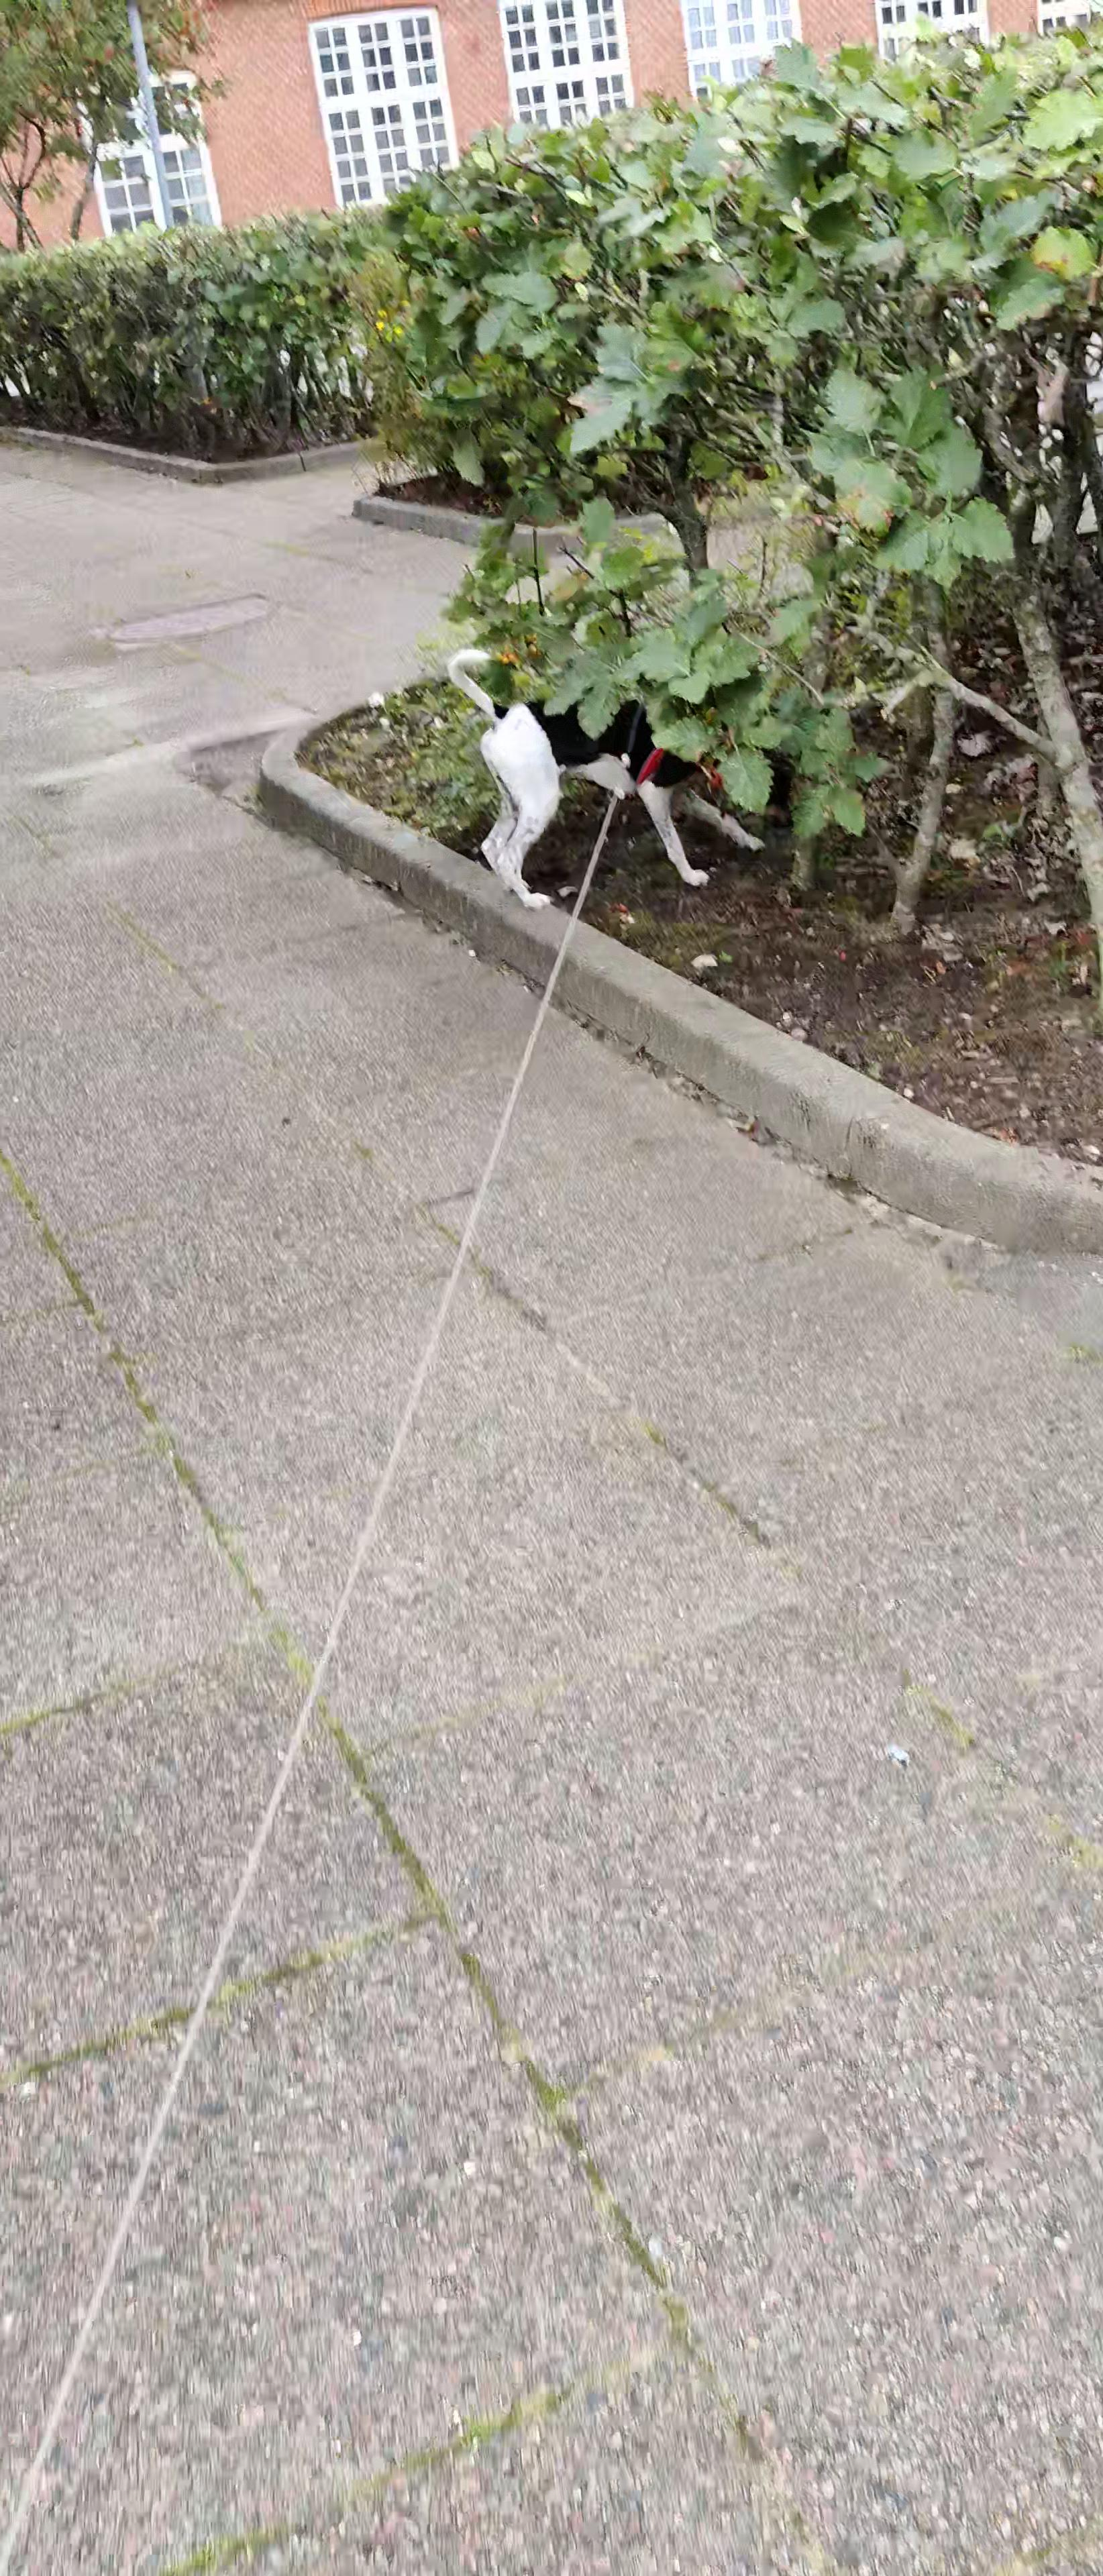Dog: (442, 636, 797, 908)
